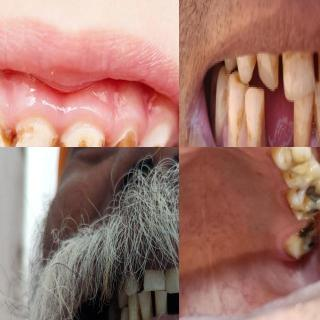Gum Swelling: (39, 96, 149, 143), (0, 84, 40, 128)
calculus: (144, 302, 158, 320)
cavities: (60, 118, 106, 147), (16, 112, 54, 147), (290, 225, 320, 261), (300, 186, 320, 222), (112, 127, 140, 147), (144, 123, 166, 147), (0, 111, 12, 147)
stains: (293, 77, 313, 147), (285, 39, 315, 85), (226, 75, 244, 147), (244, 91, 266, 147), (216, 74, 230, 142), (309, 73, 320, 146), (244, 45, 258, 89), (263, 53, 279, 89), (134, 306, 146, 320)
